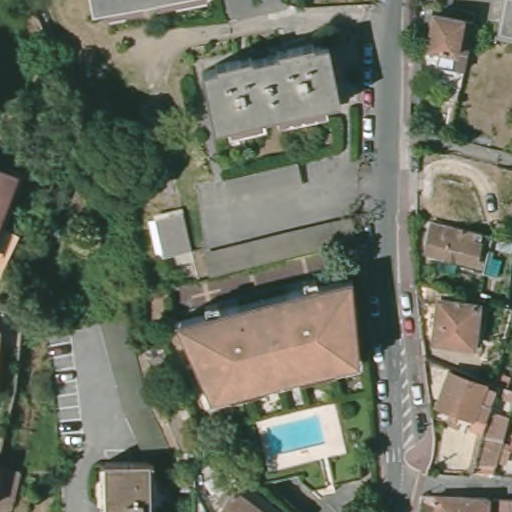pool: (259, 416, 331, 452)
